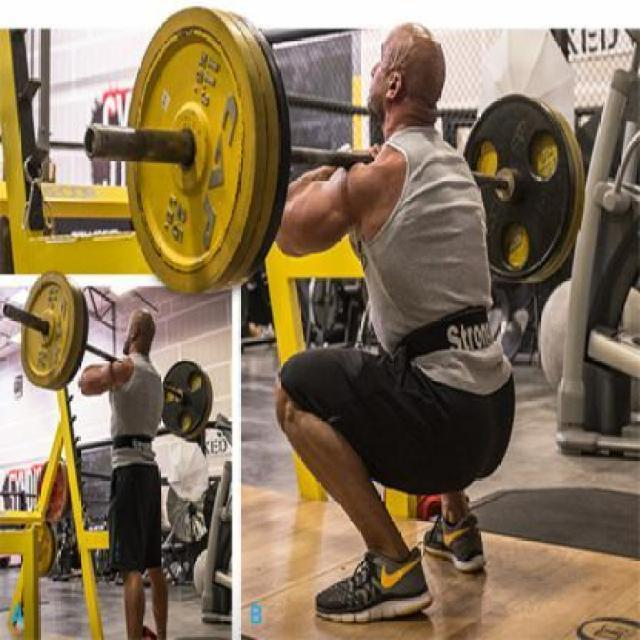barbell: (83, 5, 276, 297), (2, 276, 93, 397)
